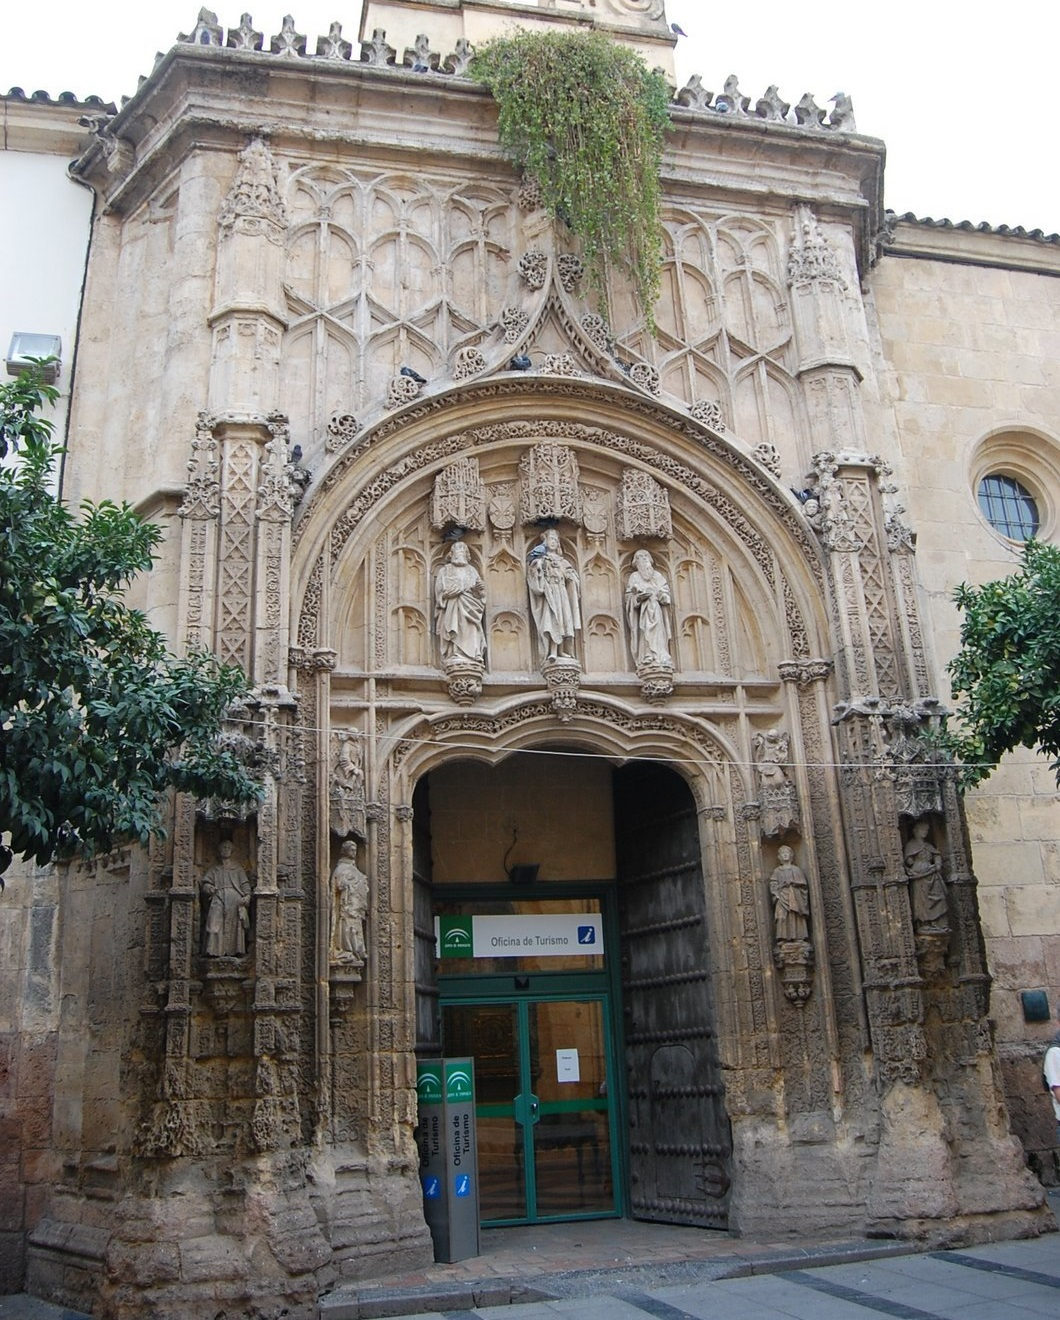arco-conopial: (337, 262, 761, 457)
arco-trilobulado: (390, 717, 726, 813)
